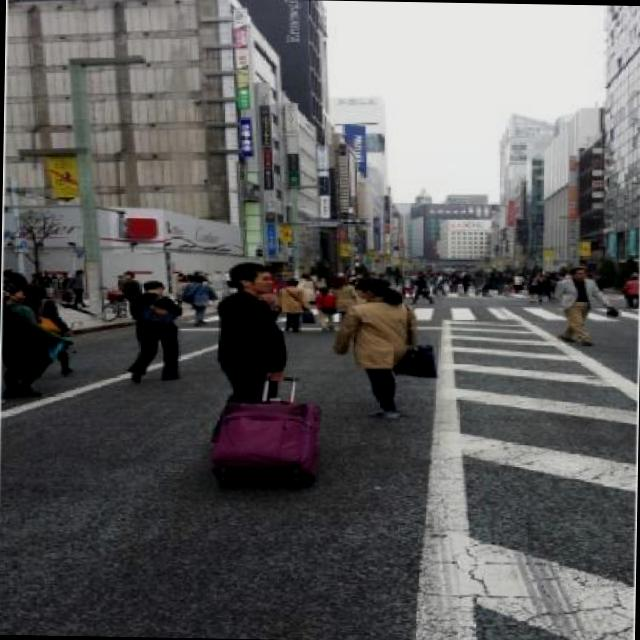Person: (210, 263, 289, 440), (338, 276, 418, 416), (120, 274, 182, 382), (546, 267, 606, 342)
